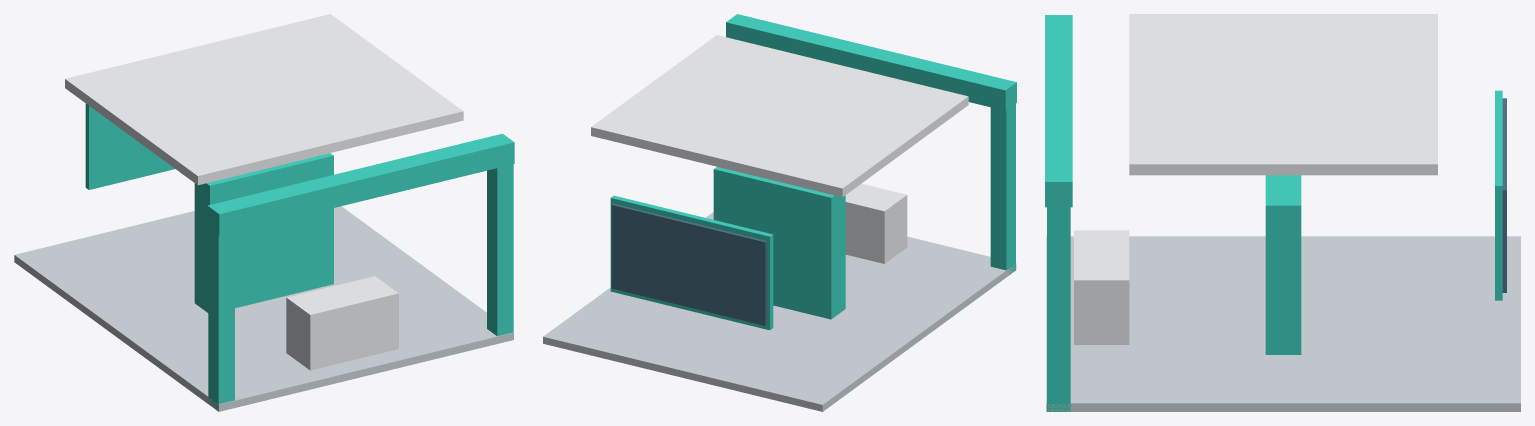
3 renders of one model, left to right at view 1: azimuth 30°, elevation 25°; view 2: azimuth 150°, elevation 25°; view 3: azimuth 270°, elevation 25°, orthographic. The views are drawn at different scales.
Visible parts, largest first — view 1: Exhibition Booth Concept; view 2: Exhibition Booth Concept; view 3: Exhibition Booth Concept.
Boxes of the visible parts, x1,y1,x2,y2 form: Exhibition Booth Concept: (14,14,514,411); Exhibition Booth Concept: (543,14,1016,411); Exhibition Booth Concept: (1045,14,1520,411).
Size of the model in its own units: 5 by 3.34 by 6.02.
